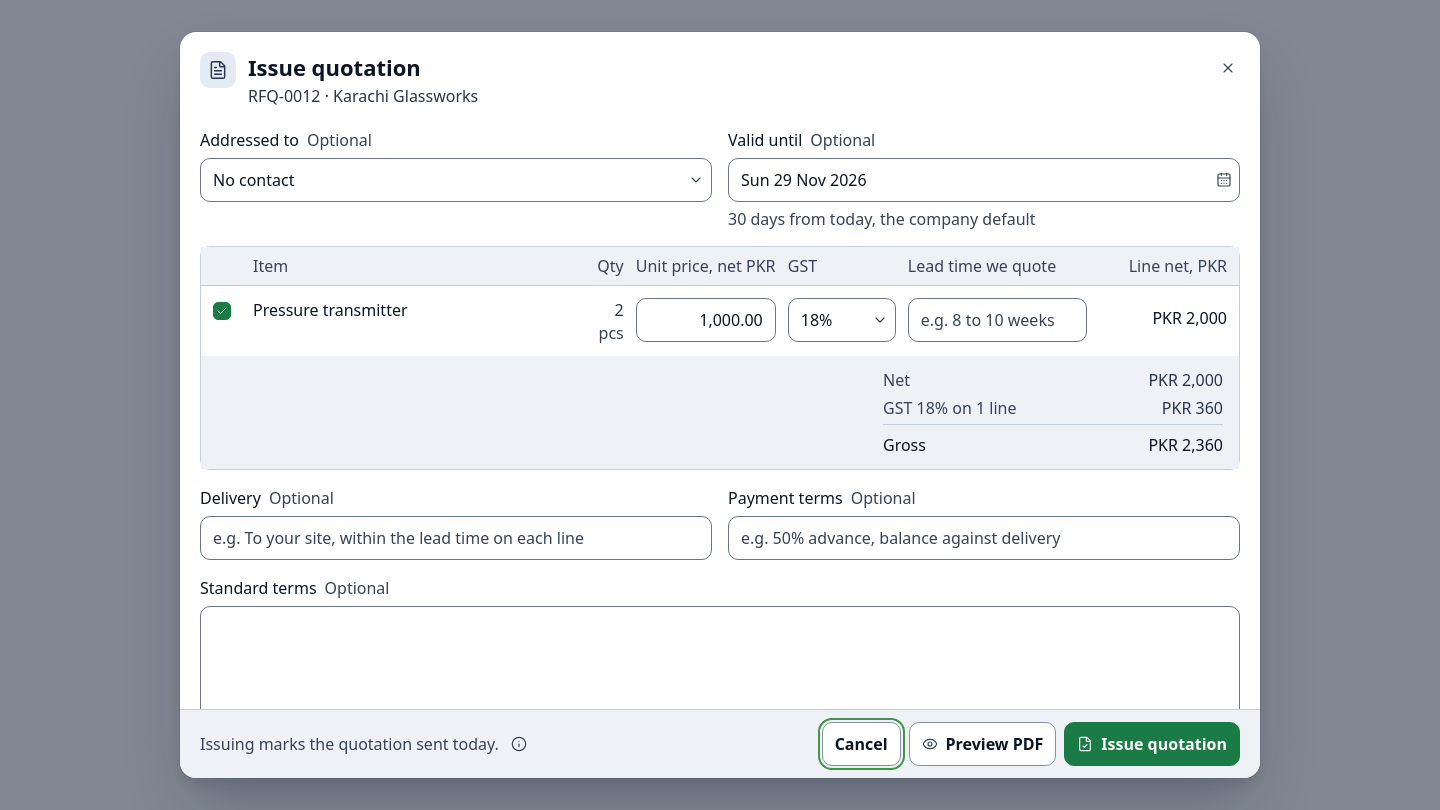
Issue quotation dialog › HW-4: does not issue over a quotation another tab issued since the dialog opened, and says so
The image size is (1440, 810).
Click the button "Issue quotation" at (1152, 744), box [1064,722,1240,766]
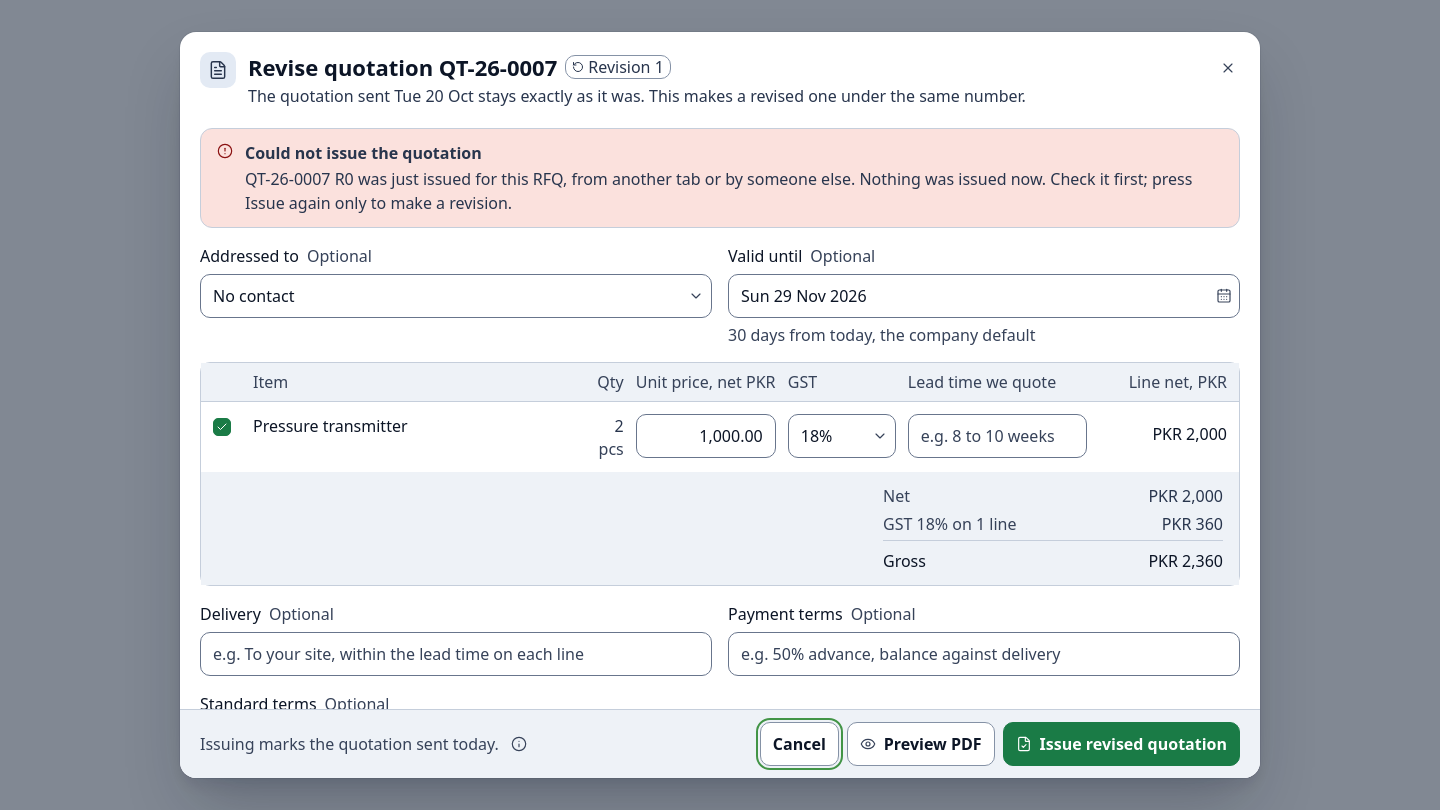
Expected: the text "was just issued for this RFQ" is shown, [245,168,1192,214]
